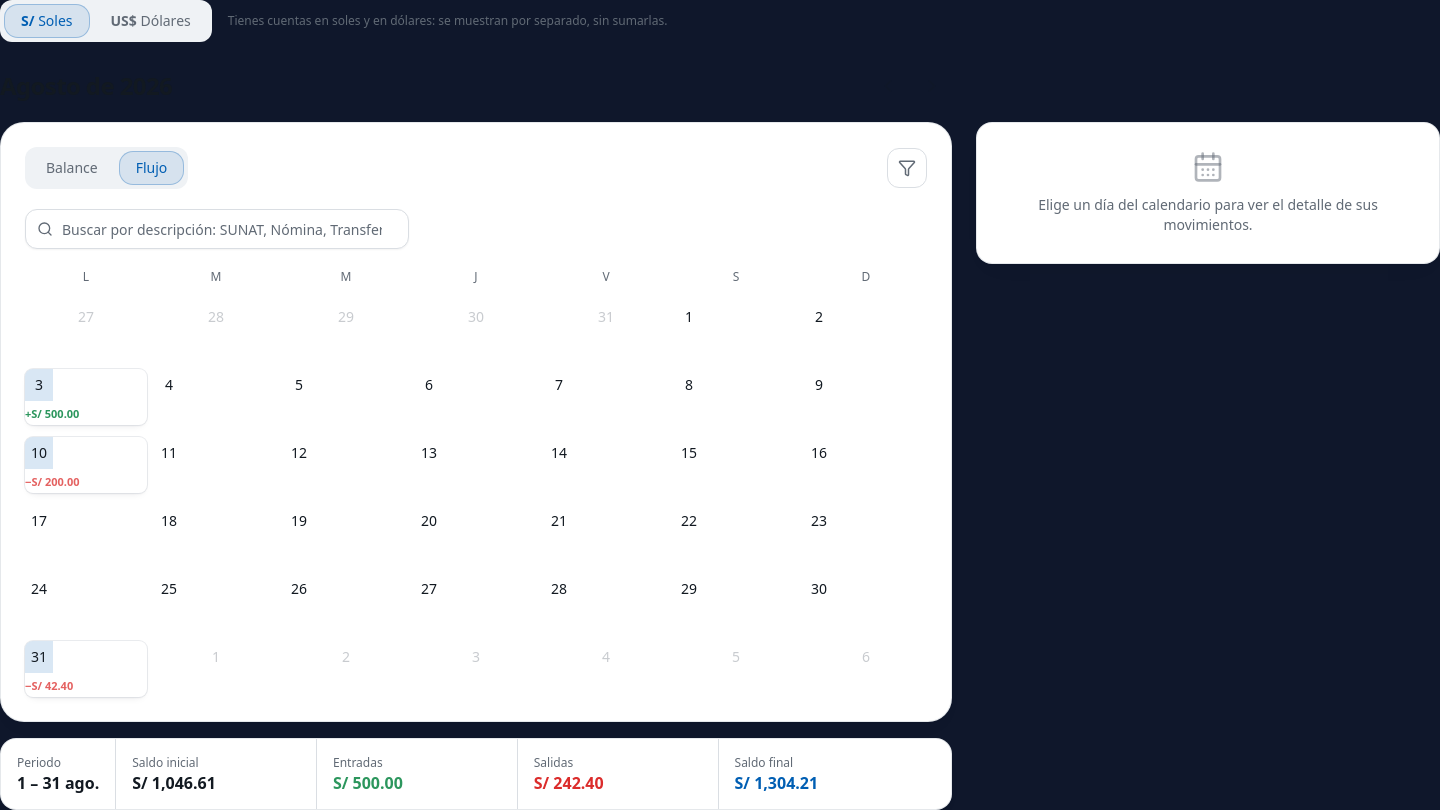
FinancialCalendarView por moneda › con soles y dólares muestra una moneda a la vez, sin sumarlas
Expected: the text "S/ 1,304.21" is shown, [734,772,818,794]
Click the radio button labelled "US$ Dólares".
click(151, 21)  # box [94,4,208,38]
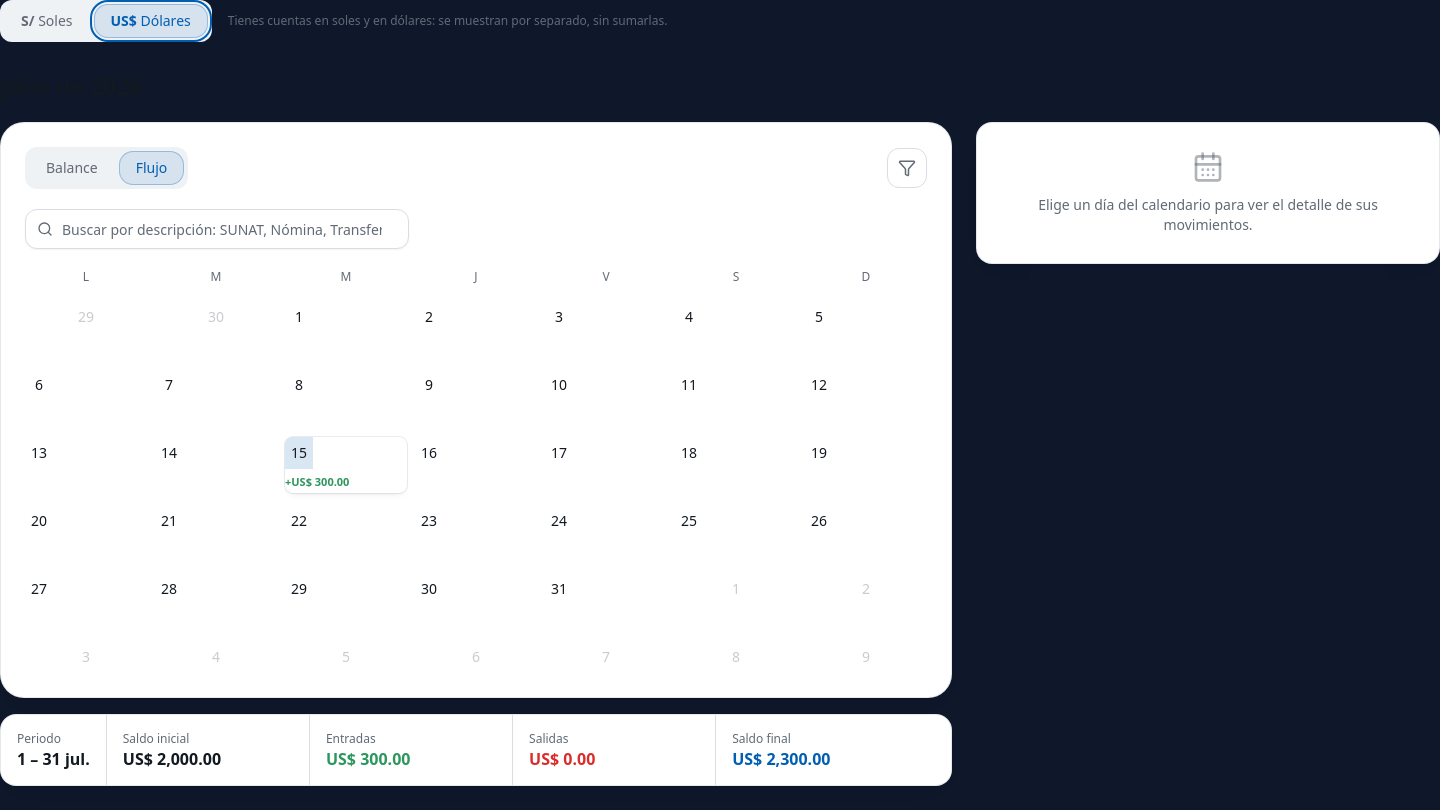
Expected: the text "US$ 2,300.00" is shown, [732,748,830,770]
Expected: the text "S/ 1,304.21" is gone
Expected: the text "+US$ 300.00" is shown, [285,476,349,486]
